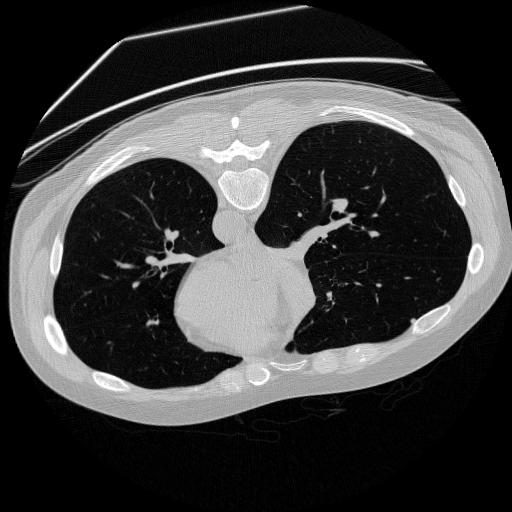nodule: (408, 316, 420, 328)
